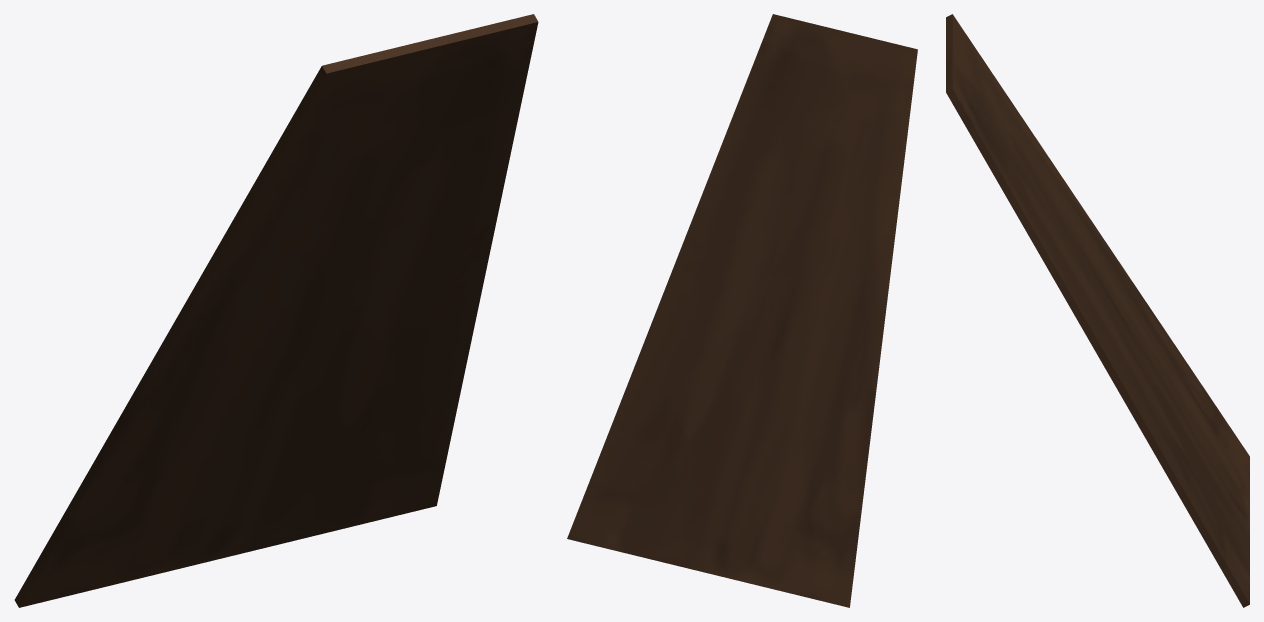
The model's file is CardboardCutout_SupportPiece_Scaled.fbx.
3 views of the same model, side by side, from view 1: azimuth 30°, elevation 25°; view 2: azimuth 150°, elevation 25°; view 3: azimuth 270°, elevation 25° (orthographic). The views are drawn at different scales.
Visible parts, largest first — view 1: Cutout_Support1; view 2: Cutout_Support1; view 3: Cutout_Support1.
Part boxes in pixels (left/top/right/bottom): Cutout_Support1: left=14, top=14, right=538, bottom=607; Cutout_Support1: left=567, top=14, right=917, bottom=607; Cutout_Support1: left=946, top=14, right=1249, bottom=607.
Size of the model in its own units: 87.67 by 133 by 76.
